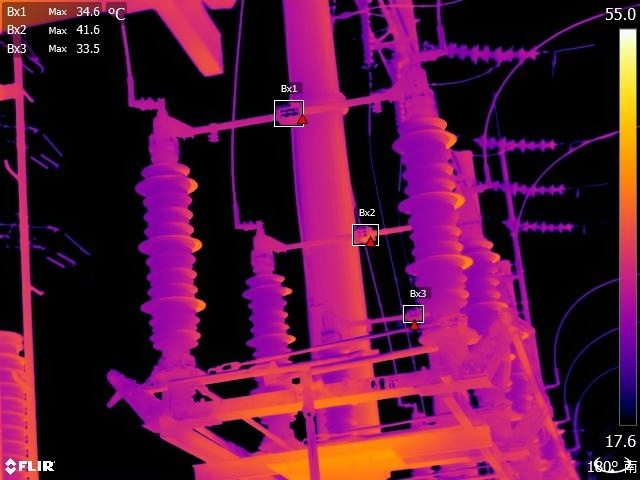insulator: (467, 125, 562, 157), (482, 167, 576, 199), (442, 41, 548, 65), (510, 212, 577, 232)
post insulator: (133, 147, 215, 356), (393, 117, 476, 318), (245, 263, 297, 391), (465, 240, 513, 334)
switch: (138, 57, 437, 154), (243, 220, 408, 271), (367, 307, 421, 330)
